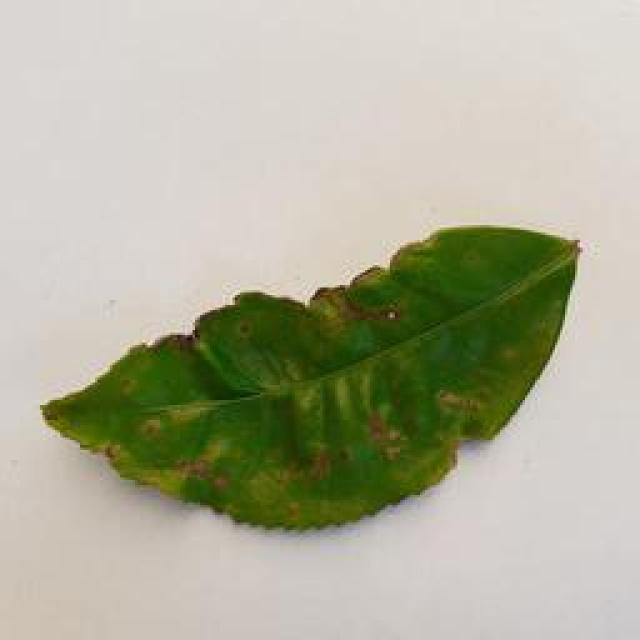Helopeltis: (37, 212, 596, 538)
